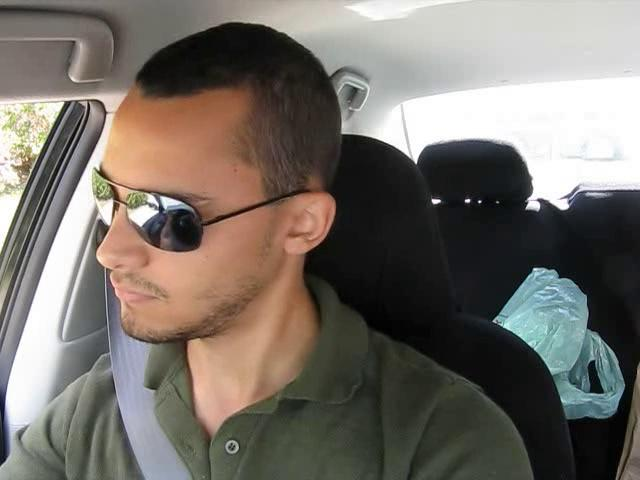no_yawn: (97, 278, 173, 313)
